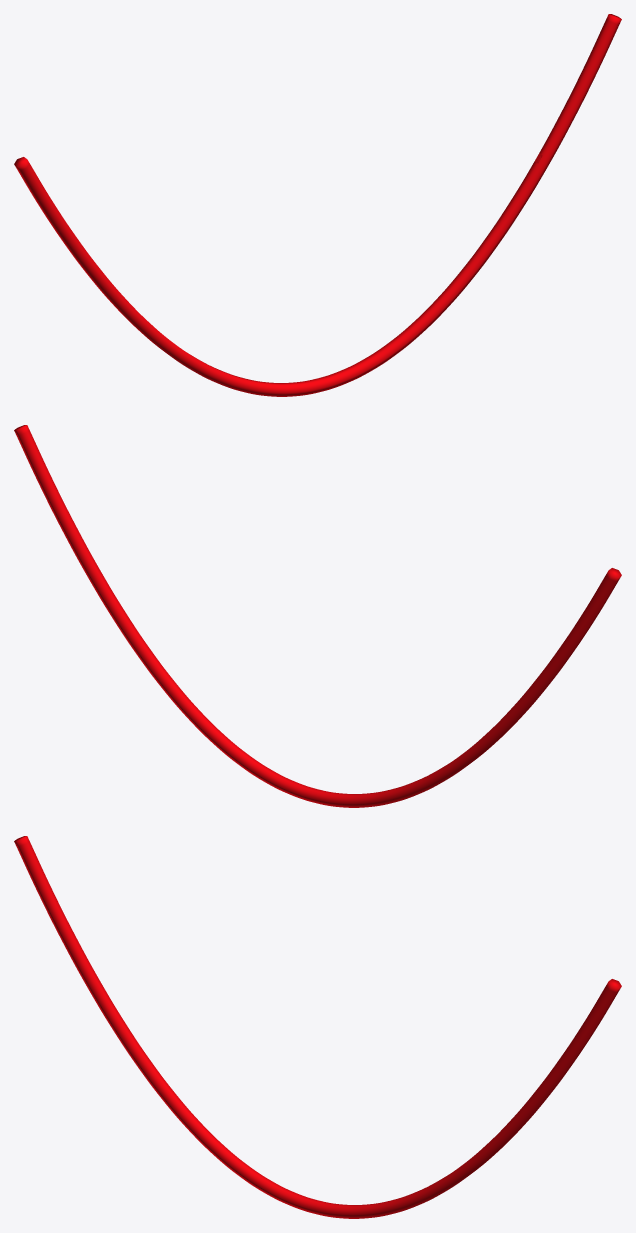
The model's file is corde.fbx.
3 views of the same model, one above another, from view 1: azimuth 30°, elevation 25°; view 2: azimuth 150°, elevation 25°; view 3: azimuth 330°, elevation 25° (orthographic).
Parts seen in each view (by area): view 1: Catenary; view 2: Catenary; view 3: Catenary.
Boxes of the visible parts, left/top/right/bottom form: Catenary: left=14, top=14, right=621, bottom=396; Catenary: left=14, top=425, right=621, bottom=807; Catenary: left=14, top=836, right=621, bottom=1218.
Bounding box in the file's own units: 99.81 × 48.01 × 2.
